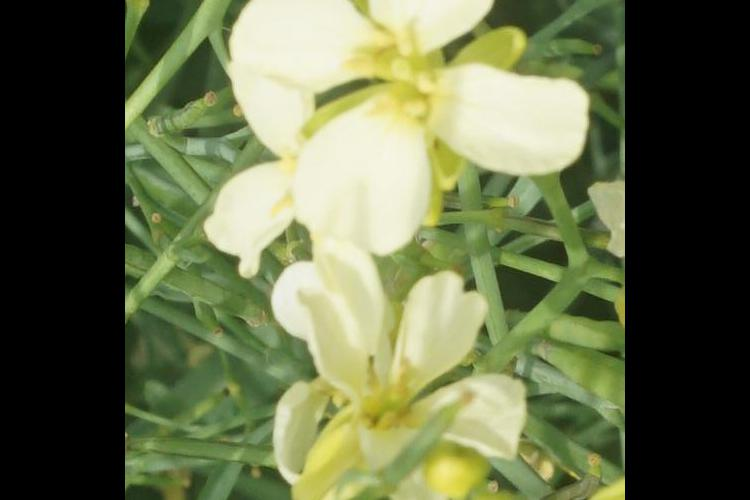pod: (435, 173, 536, 245), (529, 323, 611, 397), (541, 438, 611, 500), (148, 78, 218, 137)
white: (227, 1, 560, 227), (277, 257, 510, 500)
